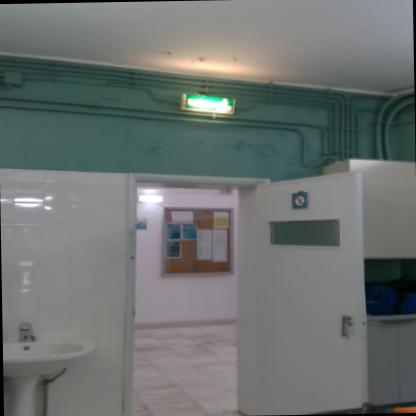open: (115, 145, 374, 415)
